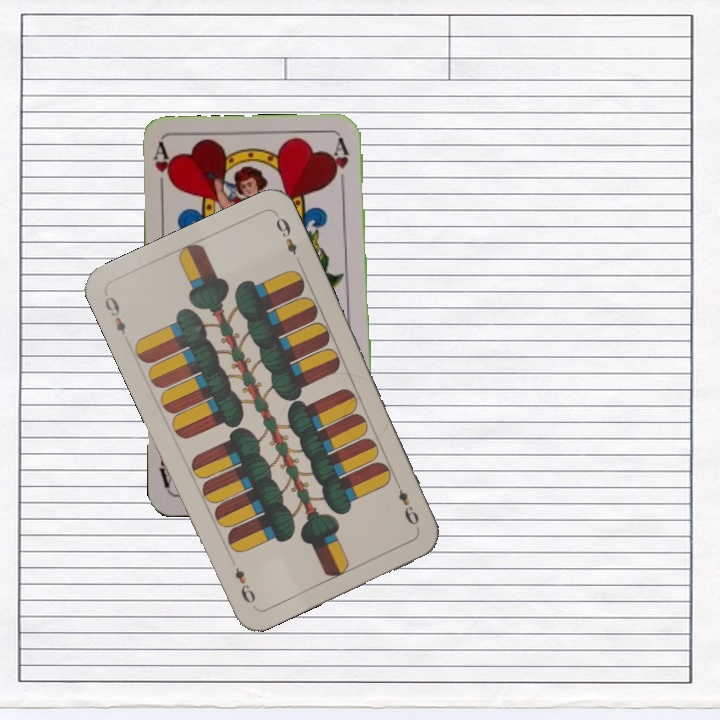E9: (100, 292, 129, 337), (394, 485, 422, 528)
HA: (149, 141, 176, 200)
